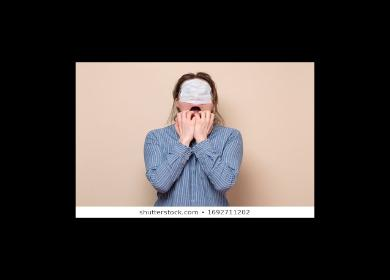mask_weared_incorrect: (179, 86, 212, 121)
